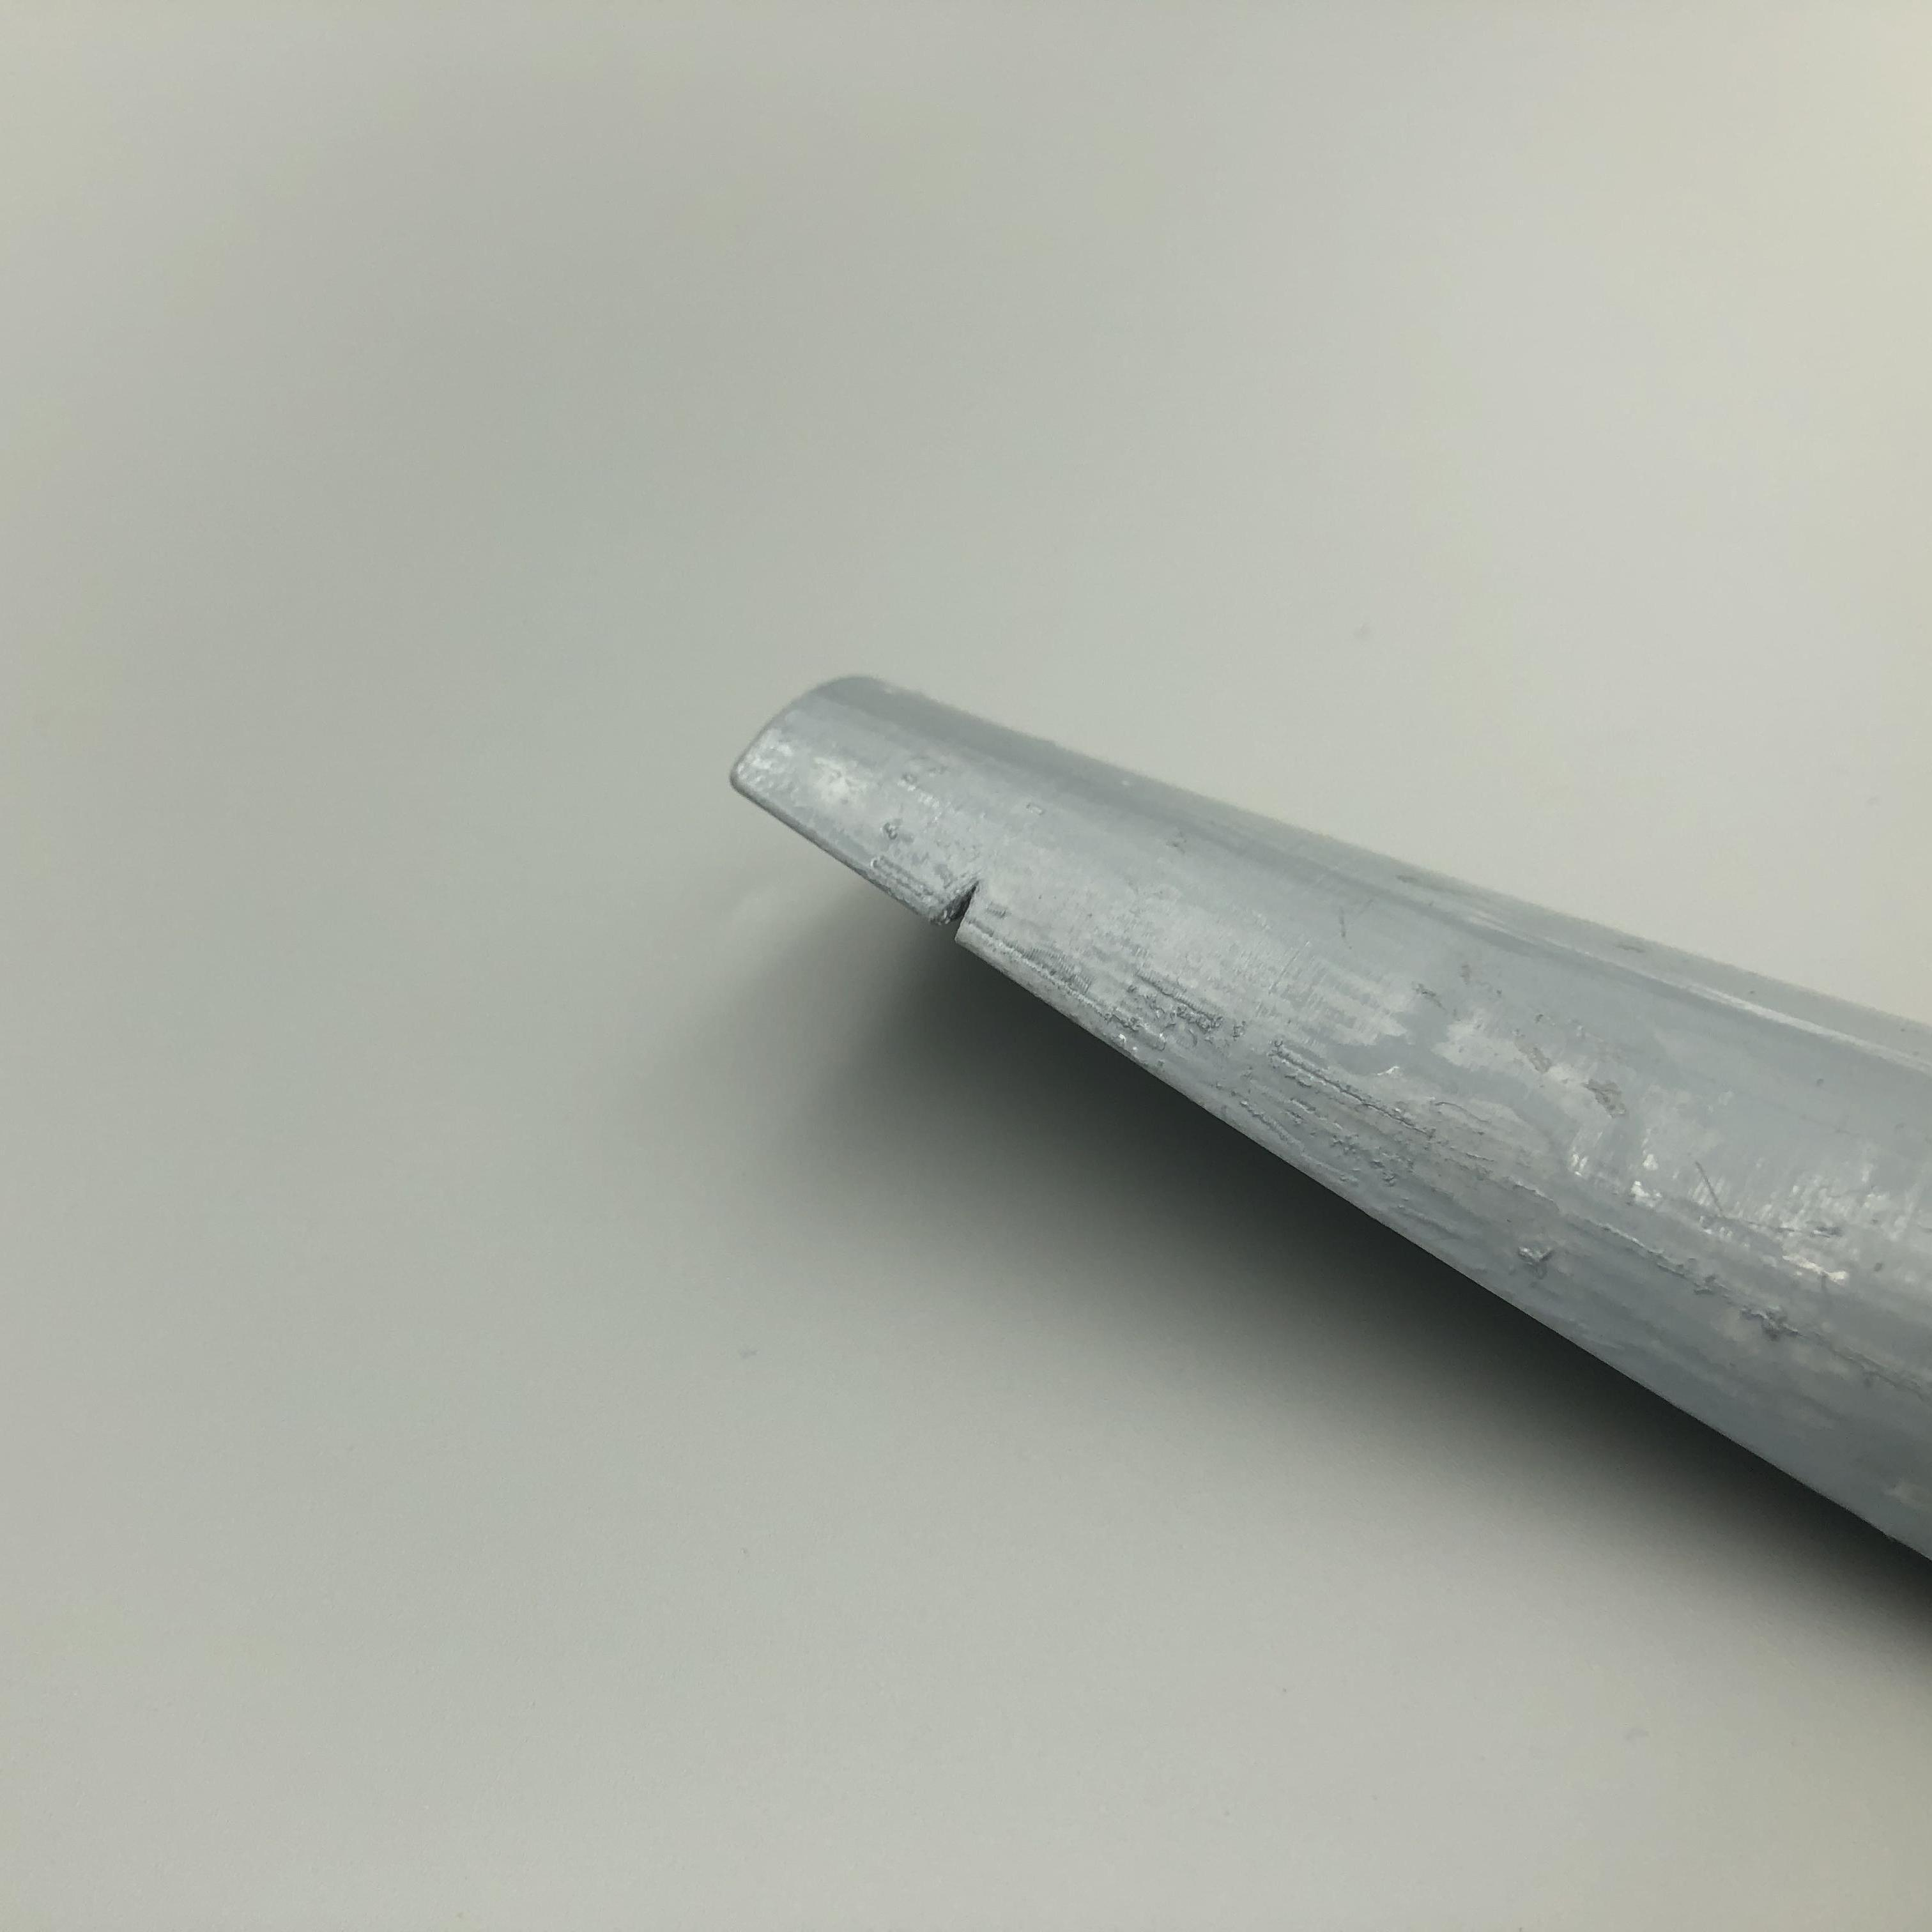groove: (918, 872, 994, 945)
